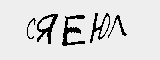Е: (59, 10, 88, 50)
Л: (108, 12, 128, 40)
С: (25, 15, 36, 44)
Ю: (88, 7, 111, 44)
Я: (35, 10, 60, 50)
